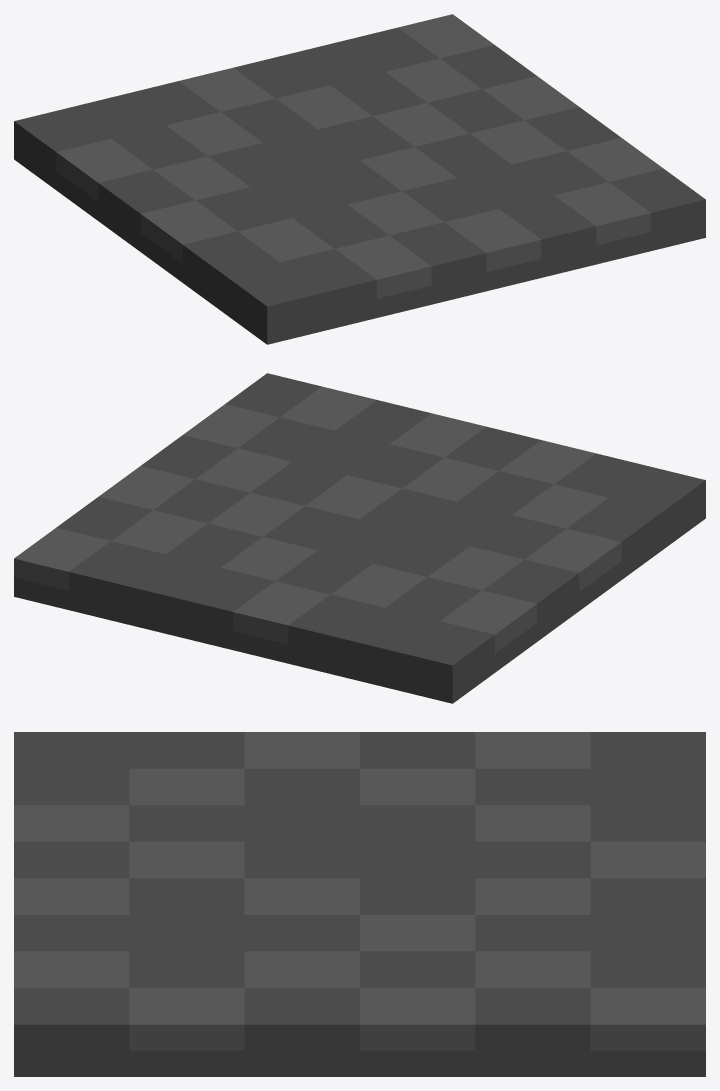
Rendered from Tile2.obj.
3 renders of one model, top to bottom at view 1: azimuth 30°, elevation 25°; view 2: azimuth 150°, elevation 25°; view 3: azimuth 270°, elevation 25°, orthographic. The views are drawn at different scales.
Bounding box in the file's own units: 2.4 × 0.2 × 2.4.
Materials: 1 (1 with a texture image).
